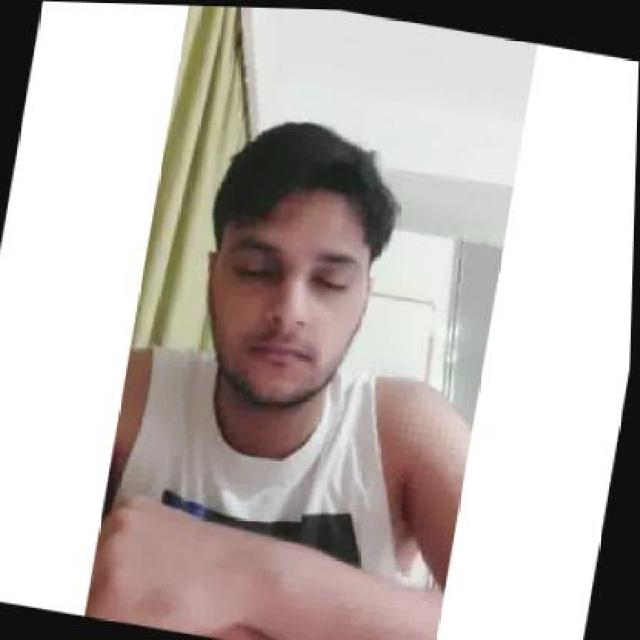inattentif: (180, 104, 402, 416)
